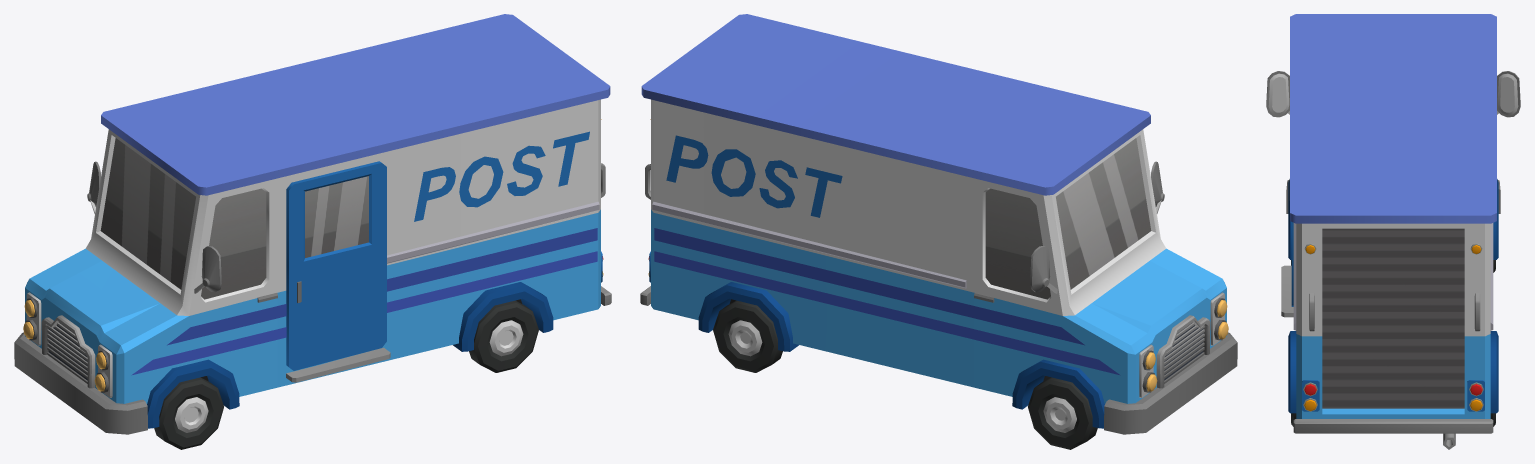
The model's file is PostCar_1_C.fbx.
3 renders of one model, left to right at view 1: azimuth 30°, elevation 25°; view 2: azimuth 150°, elevation 25°; view 3: azimuth 270°, elevation 25°, orthographic.
Visible parts, largest first — view 1: PostCar_1_C, RL, FL; view 2: PostCar_1_C, RR, FR; view 3: PostCar_1_C.
Boxes of the visible parts, x1,y1,x2,y2 form: PostCar_1_C: [14, 14, 611, 434]; RL: [469, 300, 538, 372]; FL: [154, 377, 223, 449]; PostCar_1_C: [640, 14, 1237, 434]; RR: [713, 300, 782, 372]; FR: [1028, 377, 1097, 449]; PostCar_1_C: [1266, 14, 1520, 449].
Bounding box in the file's own units: 4.14 × 2.02 × 1.8.
